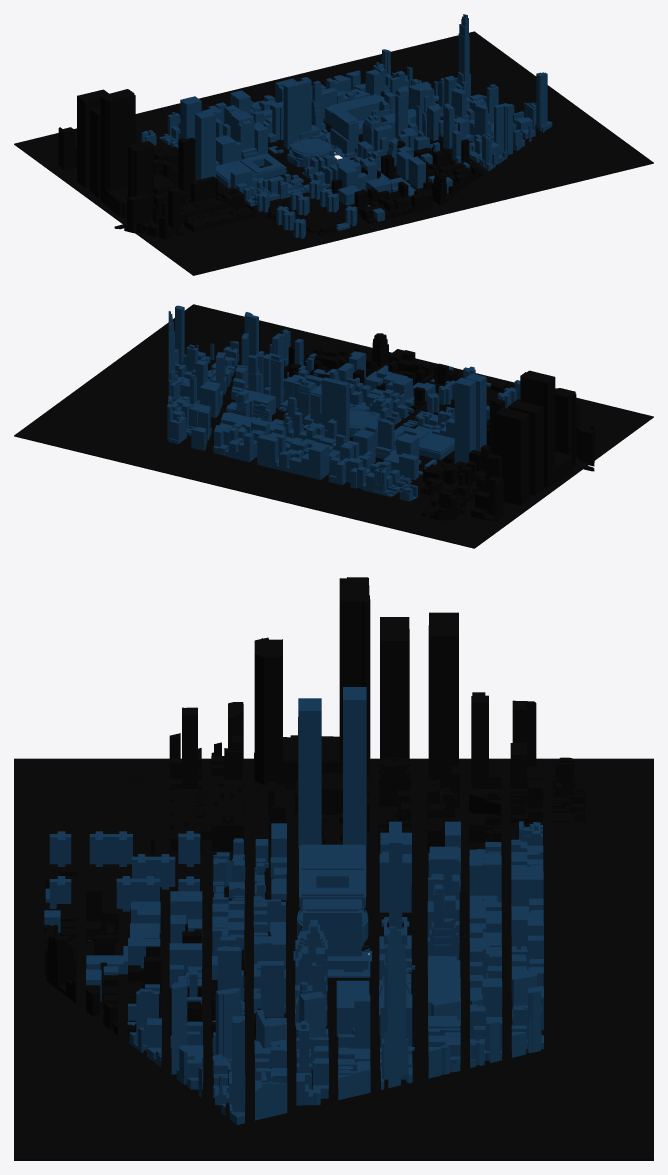
The model's file is penn.glb.
3 views of the same model, one above another, from view 1: azimuth 30°, elevation 25°; view 2: azimuth 150°, elevation 25°; view 3: azimuth 270°, elevation 25° (orthographic). The views are drawn at different scales.
Parts seen in each view (by area): view 1: object 1, 264656626, 138147420, 303603808, 1021580375, object 21, 1021580376, 1239001276, 788269399, 265302069, 287854625, object 22 (+24 smaller); view 2: object 1, 1021580375, 264656626, object 22, 1021580376, 303603808, 138147420, object 21, 265281598, 265281599, 413058178, 265282563 (+17 smaller); view 3: object 1, 1021580375, 264656626, 1021580376, 303603808, object 22, object 21, 265302069, 1021760896, object 1177, 398440363, object 1139 (+29 smaller).
Part boxes in pixels (box(x1,y1,x2,y2)): object 1: box(14, 31, 653, 275); 264656626: box(100, 89, 135, 204); 138147420: box(283, 79, 311, 149); 303603808: box(128, 141, 153, 219); 1021580375: box(77, 89, 108, 187); object 21: box(195, 110, 215, 180); 1021580376: box(90, 106, 100, 197); 1239001276: box(178, 137, 195, 198); 788269399: box(494, 103, 512, 154); 265302069: box(325, 94, 384, 126); 287854625: box(184, 206, 255, 232); object 22: box(180, 96, 201, 139); object 1: box(14, 304, 653, 548); 1021580375: box(494, 407, 529, 505); 264656626: box(520, 370, 555, 487); object 22: box(454, 377, 475, 463); 1021580376: box(508, 400, 543, 495); 303603808: box(555, 388, 576, 466); 138147420: box(321, 377, 349, 442); object 21: box(465, 373, 486, 451); 265281598: box(257, 432, 285, 468); 265281599: box(308, 442, 329, 479); 413058178: box(576, 426, 594, 464); 265282563: box(489, 476, 503, 520); object 1: box(14, 758, 653, 1160); 1021580375: box(428, 612, 458, 788); 264656626: box(339, 577, 370, 787); 1021580376: box(380, 617, 409, 761); 303603808: box(254, 637, 282, 785); object 22: box(343, 687, 366, 845); object 21: box(298, 698, 321, 847); 265302069: box(428, 956, 460, 1025); 1021760896: box(471, 692, 488, 788); object 1177: box(301, 844, 363, 869); 398440363: box(282, 735, 342, 789); object 1139: box(303, 910, 361, 941).
Size of the model in its own units: 2217 by 681 by 1466.
